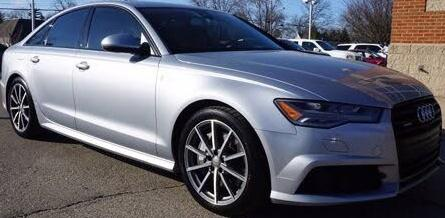Cars: (1, 4, 442, 217)
